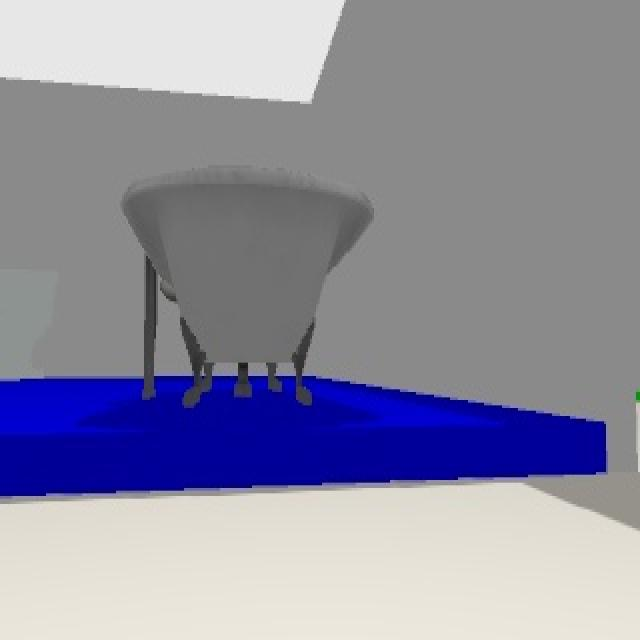bathtub: (118, 165, 376, 408)
